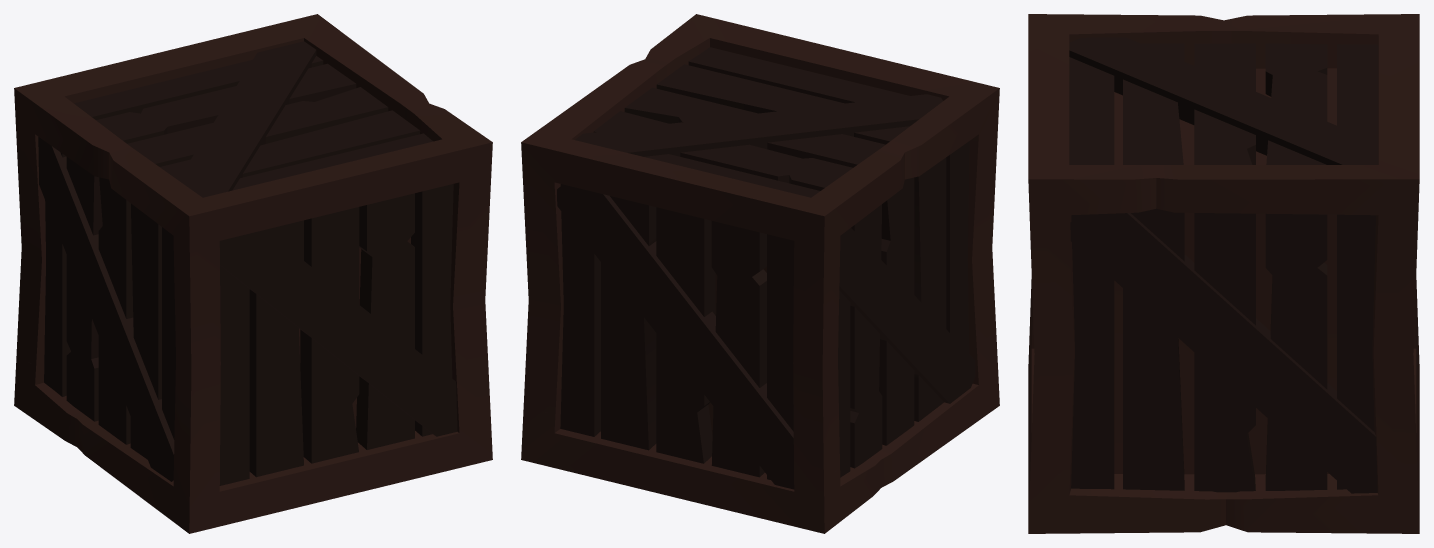
The model's file is Crate.obj.
The picture shows the model from 3 angles, left to right: view 1: azimuth 30°, elevation 25°; view 2: azimuth 150°, elevation 25°; view 3: azimuth 270°, elevation 25°; orthographic projection. The views are drawn at different scales.
Visible parts, largest first — view 1: Crate_Cube.259; view 2: Crate_Cube.259; view 3: Crate_Cube.259.
Part boxes in pixels (x1,y1,x2,y2): Crate_Cube.259: (14,14,492,533); Crate_Cube.259: (521,14,999,533); Crate_Cube.259: (1028,14,1419,533).
Size of the model in its own units: 0.1602 by 0.1602 by 0.1602.
